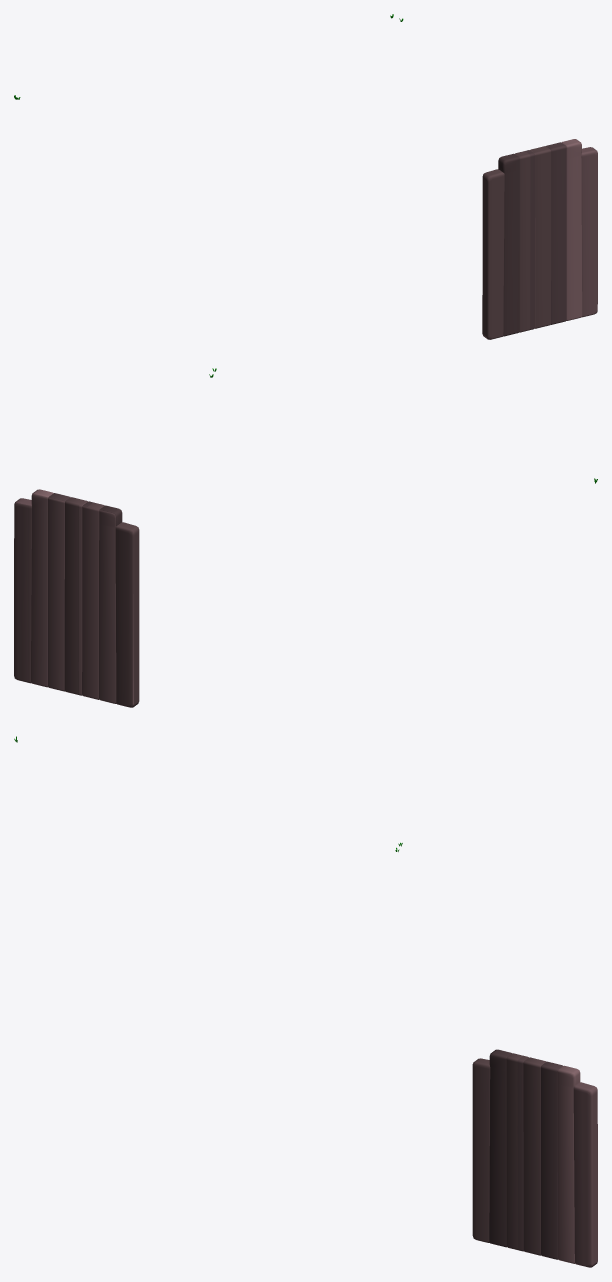
The model's file is WoodPlank.fbx.
3 renders of one model, top to bottom at view 1: azimuth 30°, elevation 25°; view 2: azimuth 150°, elevation 25°; view 3: azimuth 330°, elevation 25°, orthographic. The views are drawn at different scales.
Parts seen in each view (by area): view 1: ENV_WoodPlank_MO_0; view 2: ENV_WoodPlank_MO_0; view 3: ENV_WoodPlank_MO_0.
Part boxes in pixels (box(x1,y1,x2,y2)): ENV_WoodPlank_MO_0: box(482, 139, 597, 339); ENV_WoodPlank_MO_0: box(14, 489, 139, 707); ENV_WoodPlank_MO_0: box(472, 1049, 597, 1267).
Size of the model in its own units: 126 by 72.55 by 10.75.
